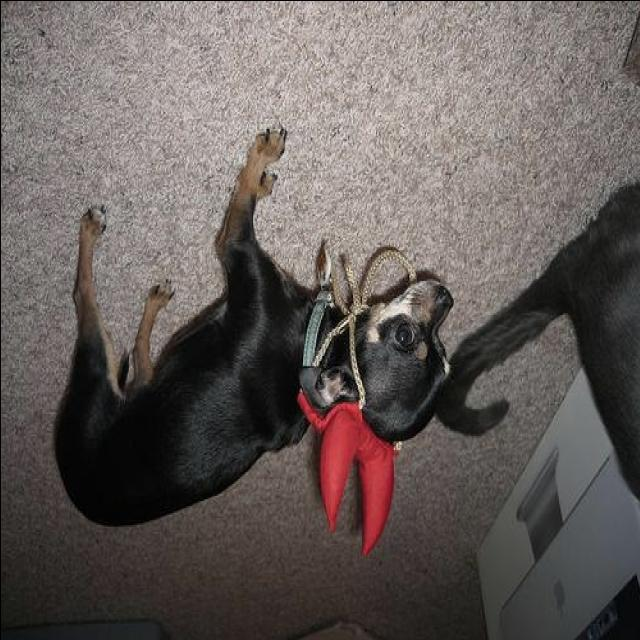chihuahua: (55, 126, 457, 562)
